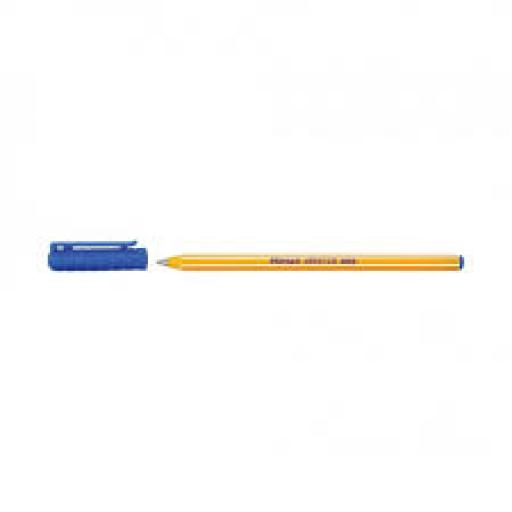tukenmez-kalem: (43, 212, 496, 322)
